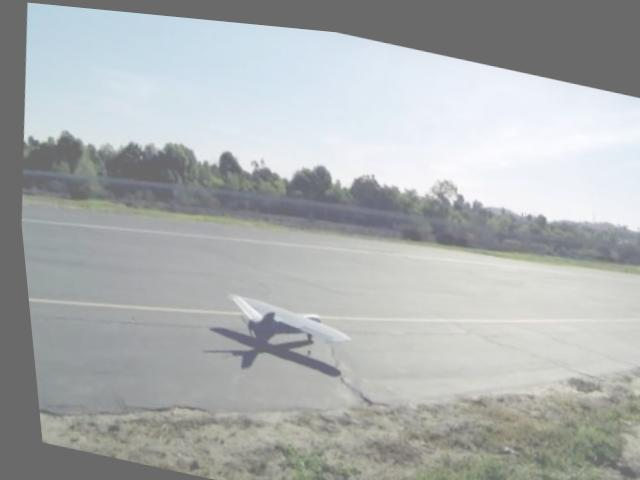iha: (213, 284, 350, 356)
